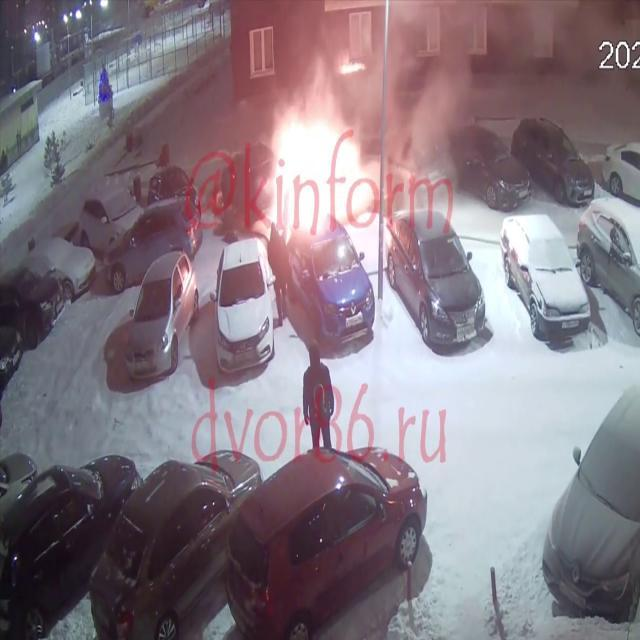Fire: (257, 106, 382, 231)
Smoke: (351, 0, 491, 202)
